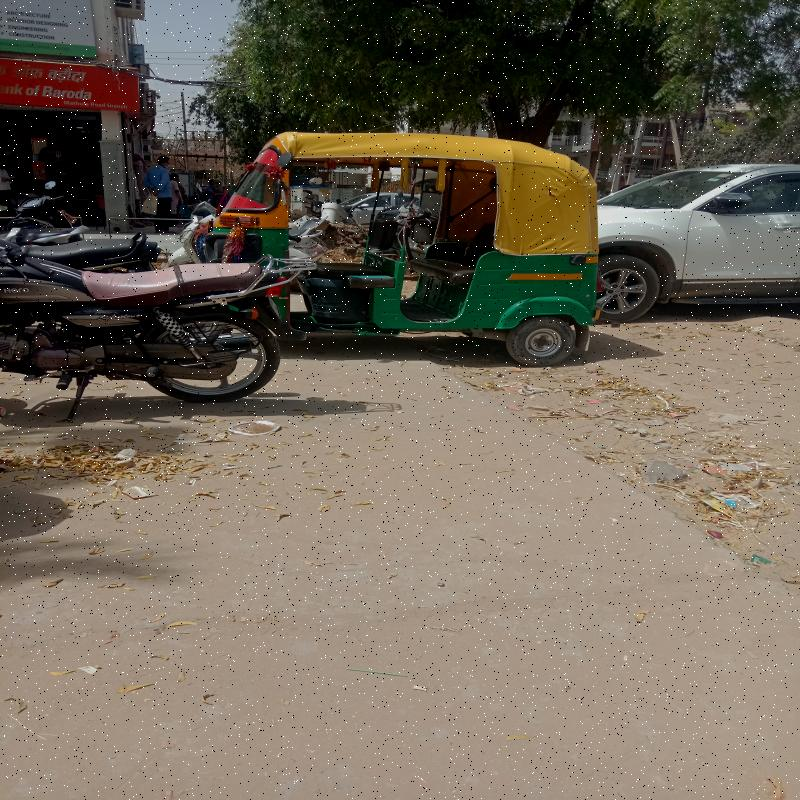auto: (190, 135, 593, 367)
